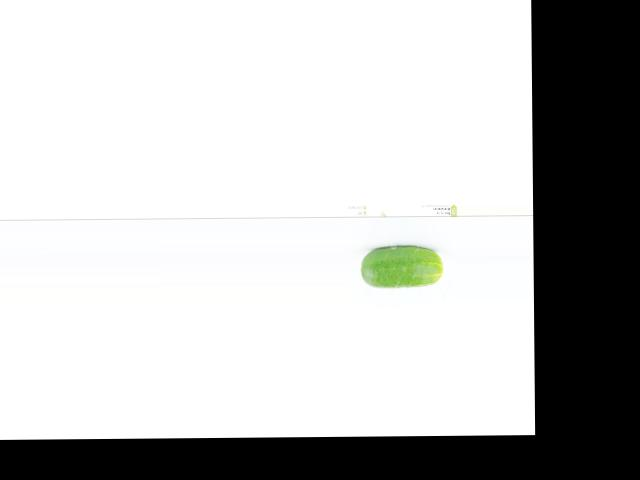cucumber: (360, 245, 442, 287)
